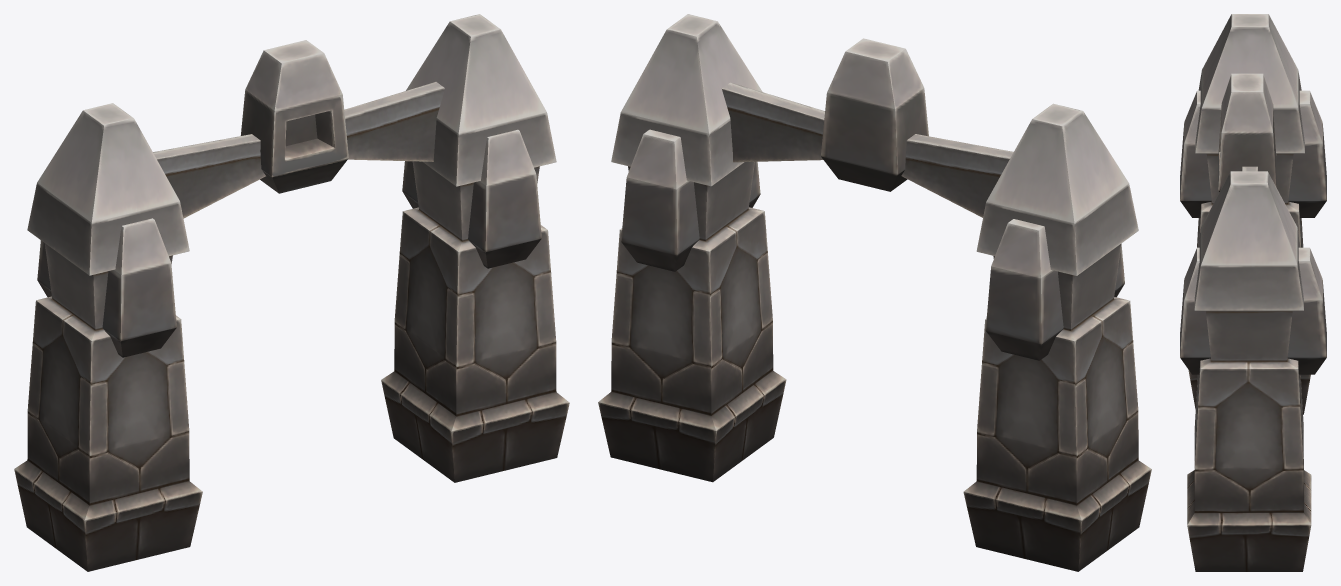
The model's file is Dwarf_Village_Props_06.FBX.
3 renders of one model, left to right at view 1: azimuth 30°, elevation 25°; view 2: azimuth 150°, elevation 25°; view 3: azimuth 270°, elevation 25°, orthographic. The views are drawn at different scales.
Parts seen in each view (by area): view 1: Dwarf_Village_Props_06; view 2: Dwarf_Village_Props_06; view 3: Dwarf_Village_Props_06.
Boxes of the visible parts, bbox=[...] form: Dwarf_Village_Props_06: bbox=[14, 14, 569, 571]; Dwarf_Village_Props_06: bbox=[598, 14, 1151, 571]; Dwarf_Village_Props_06: bbox=[1180, 14, 1326, 571].
Size of the model in its own units: 593 by 516 by 177.
